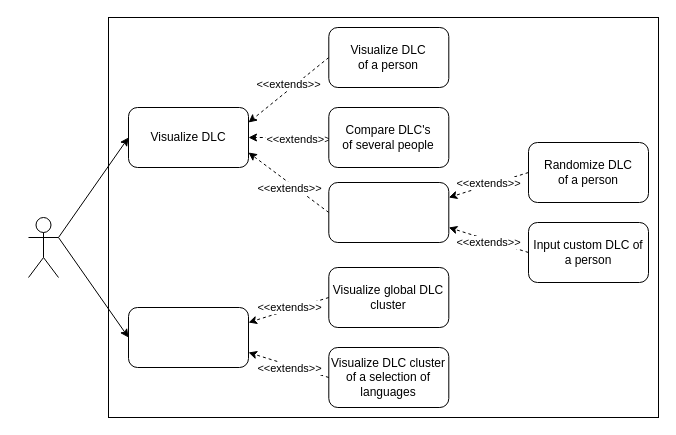
This 676x435 diagram has some shape labels left out. The centre of each missing label's shape, as x and y in pixels:
"Interested Party" belongs at point (43, 247).
"Simulate DLC of a person" belongs at point (388, 212).
"Visualize DLC cluster" belongs at point (188, 337).
